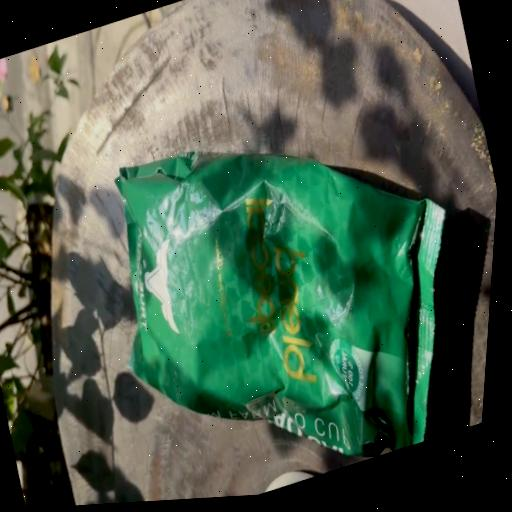cafe_xay: (115, 151, 445, 456)
